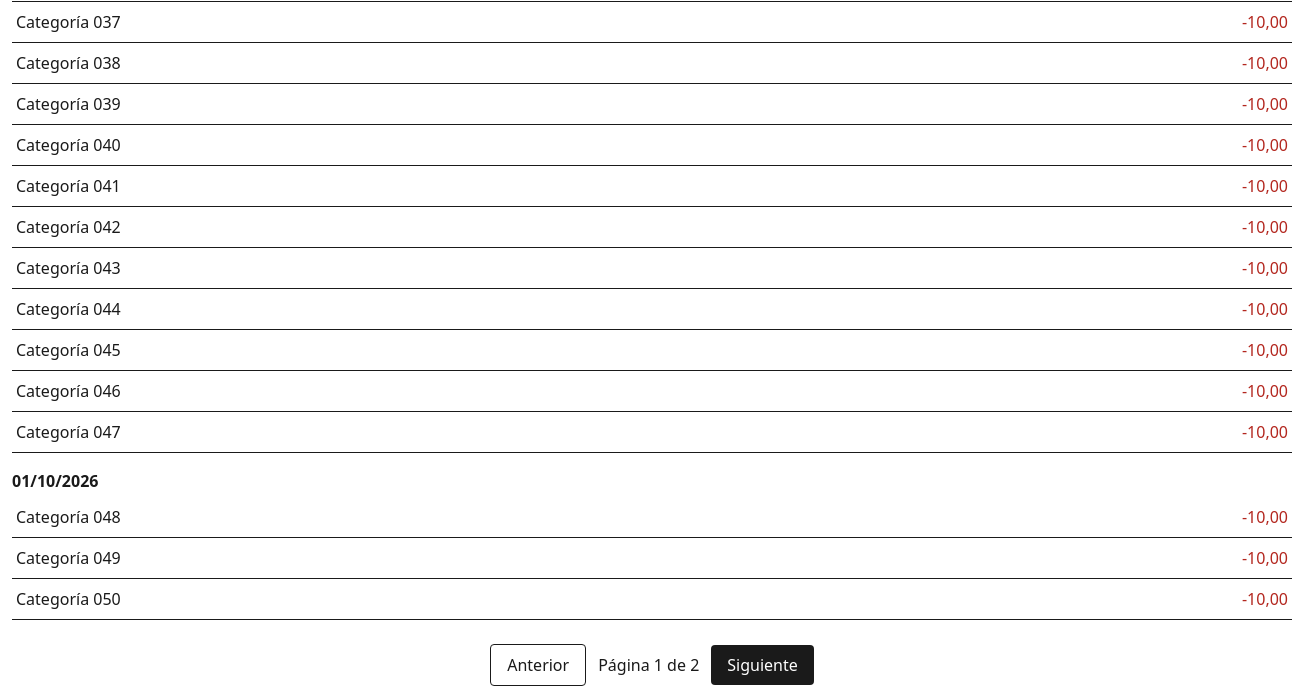
it: SeccionCuenta › la página 2 del ejemplo de AC-63 empieza con el encabezado "01/10/2026" (AC-63, FR-47)
The image size is (1304, 686).
(page scrolled)
expect the text "Página 1 de 2" is shown: met, box [598,653,699,677]
Click the button "Siguiente": x=763, y=665 [711,645,814,685]
(page scrolled)
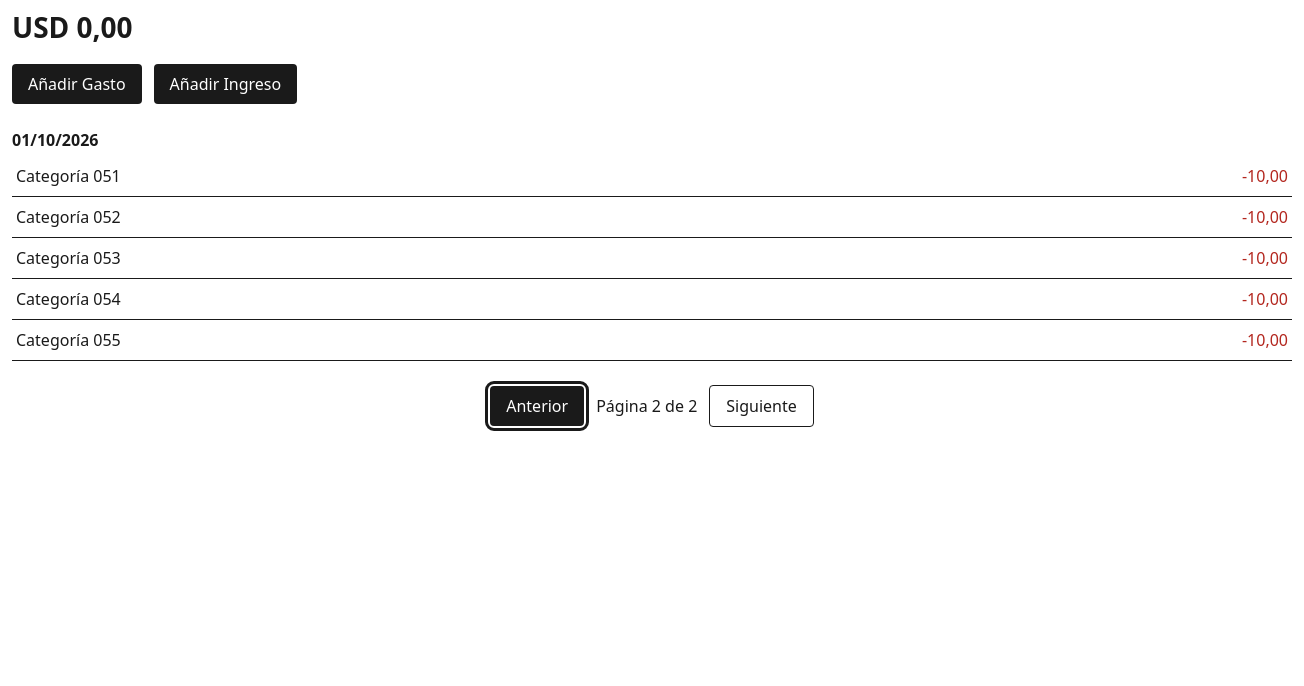
expect the heading "01/10/2026" is shown: met, box [12,129,98,151]
expect the text "Página 2 de 2" is shown: met, box [596,394,697,418]
